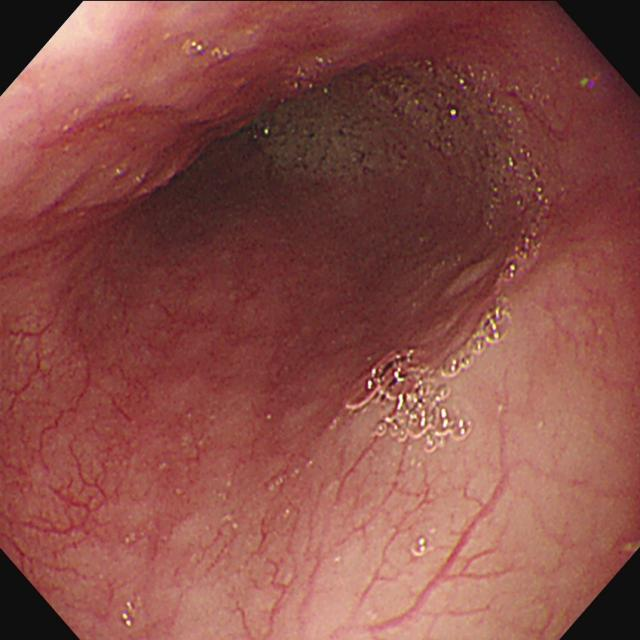T: (254, 62, 541, 176), (346, 308, 512, 454), (492, 178, 552, 274)
